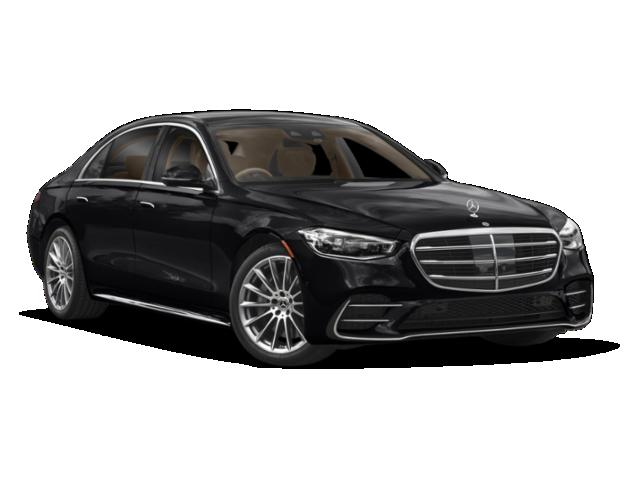benz: (28, 109, 594, 369)
